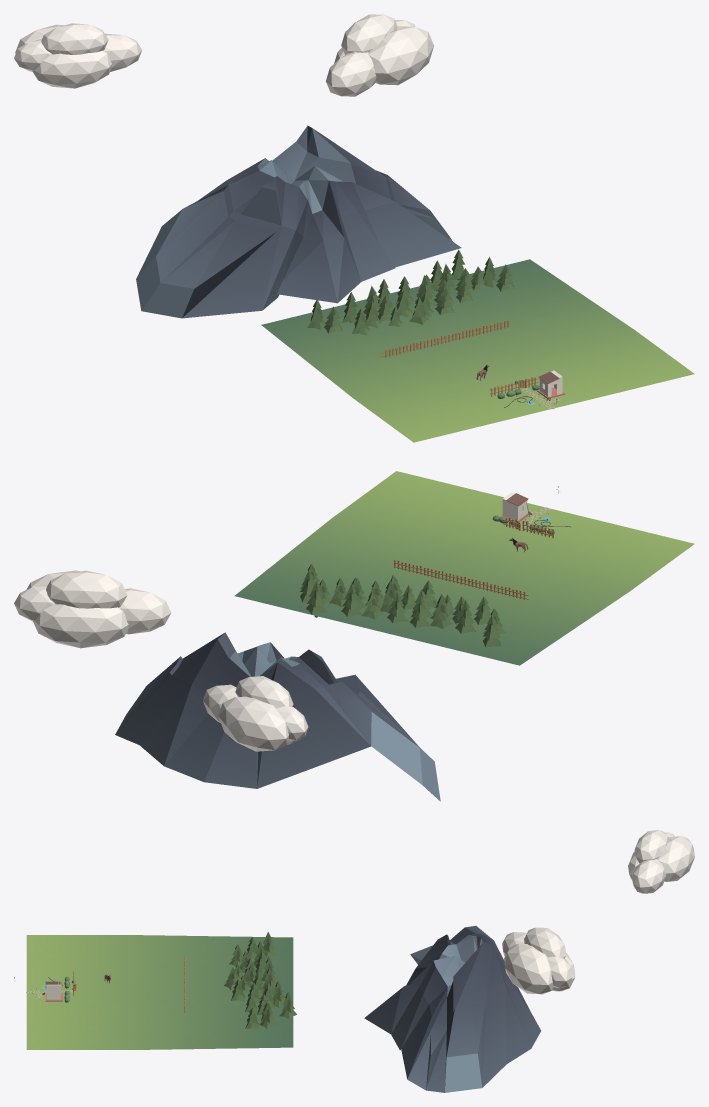
3 views of the same model, one above another, from view 1: azimuth 30°, elevation 25°; view 2: azimuth 150°, elevation 25°; view 3: azimuth 270°, elevation 25° (orthographic). The views are drawn at different scales.
Visible parts, largest first — view 1: Ground.004, Mountain.002, Cloud.002, Forest.001, Cloud.003, Fence 2 plan; view 2: Ground.004, Mountain.002, Cloud.002, Forest.001, Cloud.003, Fence 2 plan; view 3: Ground.004, Mountain.002, Cloud.002, Forest.001, Cloud.003.
Part boxes in pixels (x1,y1,x2,y2): Ground.004: [261, 259, 694, 442]; Mountain.002: [136, 125, 461, 318]; Cloud.002: [326, 14, 433, 96]; Forest.001: [307, 249, 515, 335]; Cloud.003: [14, 23, 141, 88]; Fence 2 plan: [381, 320, 508, 357]; Ground.004: [235, 471, 694, 665]; Mountain.002: [115, 632, 440, 801]; Cloud.002: [14, 570, 171, 648]; Forest.001: [300, 564, 505, 647]; Cloud.003: [203, 676, 308, 751]; Fence 2 plan: [393, 560, 528, 599]; Ground.004: [26, 935, 293, 1049]; Mountain.002: [364, 926, 541, 1092]; Cloud.002: [502, 927, 575, 994]; Forest.001: [224, 932, 296, 1029]; Cloud.003: [628, 830, 694, 893].
Bounding box in the file's own units: 9.91 × 5.38 × 20.49.
